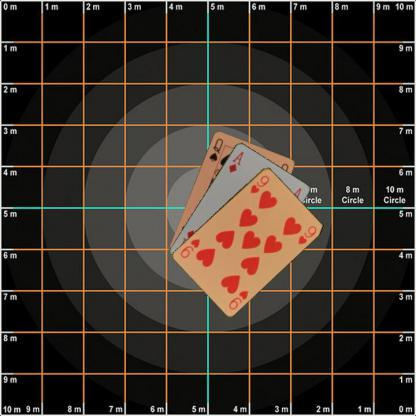9h: (226, 288, 249, 311), (248, 172, 270, 194)
Ad: (226, 148, 245, 174)
Qs: (206, 135, 224, 163)
